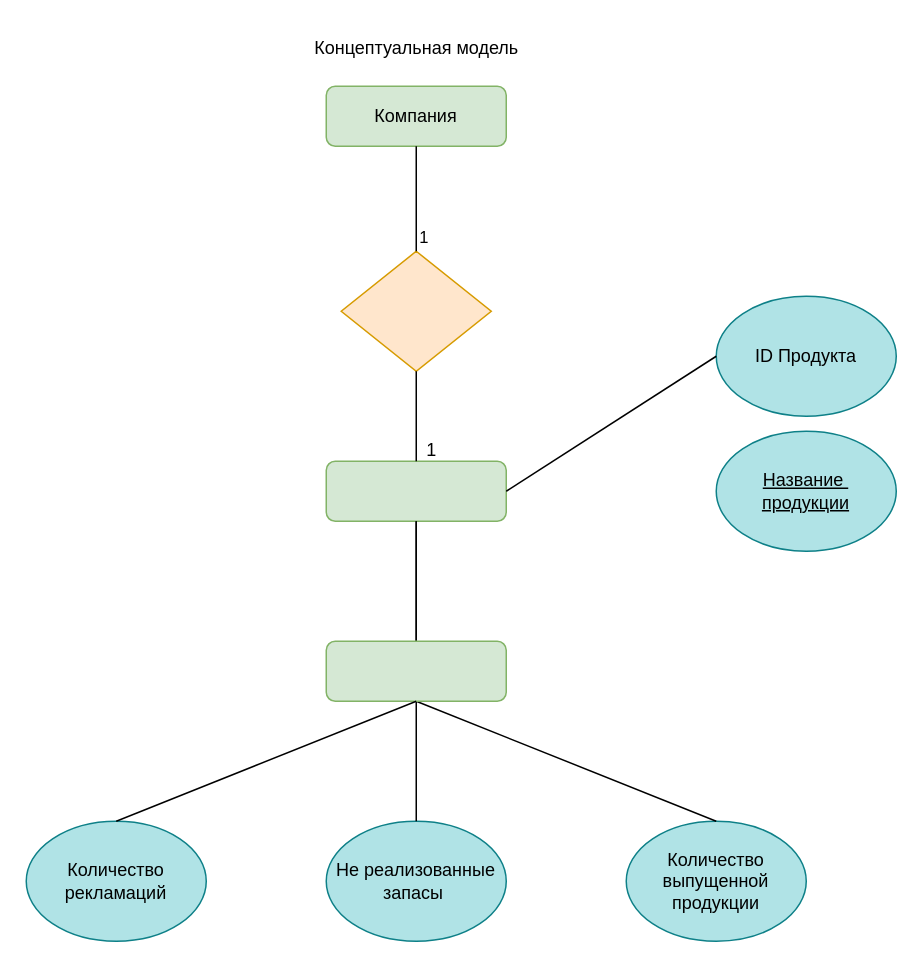
Image size: 923x968. Some labels were removed from this diagram. The shapes that lost their labels are listed below. From the top down, each one's centre as x and y in pixels, then its label:
At point (415, 310): "производит".
At point (415, 490): "продукцию".
At point (415, 670): "Экономические показатели".
